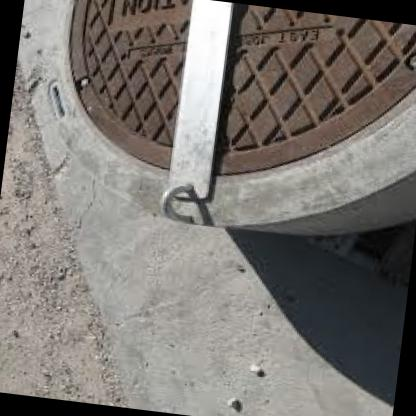manholes: (14, 0, 416, 266)
